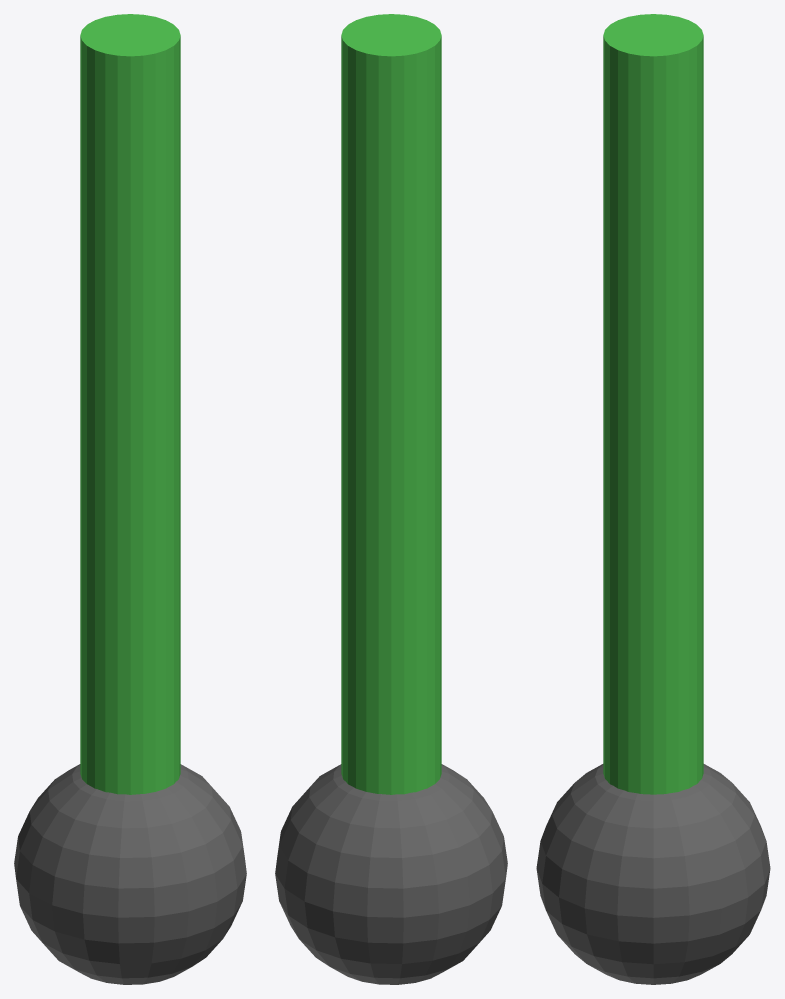
3 views of the same model, side by side, from view 1: azimuth 30°, elevation 25°; view 2: azimuth 150°, elevation 25°; view 3: azimuth 270°, elevation 25° (orthographic).
Visible parts, largest first — view 1: link1_mesh; view 2: link1_mesh; view 3: link1_mesh.
Boxes of the visible parts, left/top/right/bottom form: link1_mesh: left=14, top=14, right=246, bottom=984; link1_mesh: left=275, top=14, right=507, bottom=984; link1_mesh: left=536, top=14, right=770, bottom=984.
Size of the model in its own units: 14 by 62 by 14.
